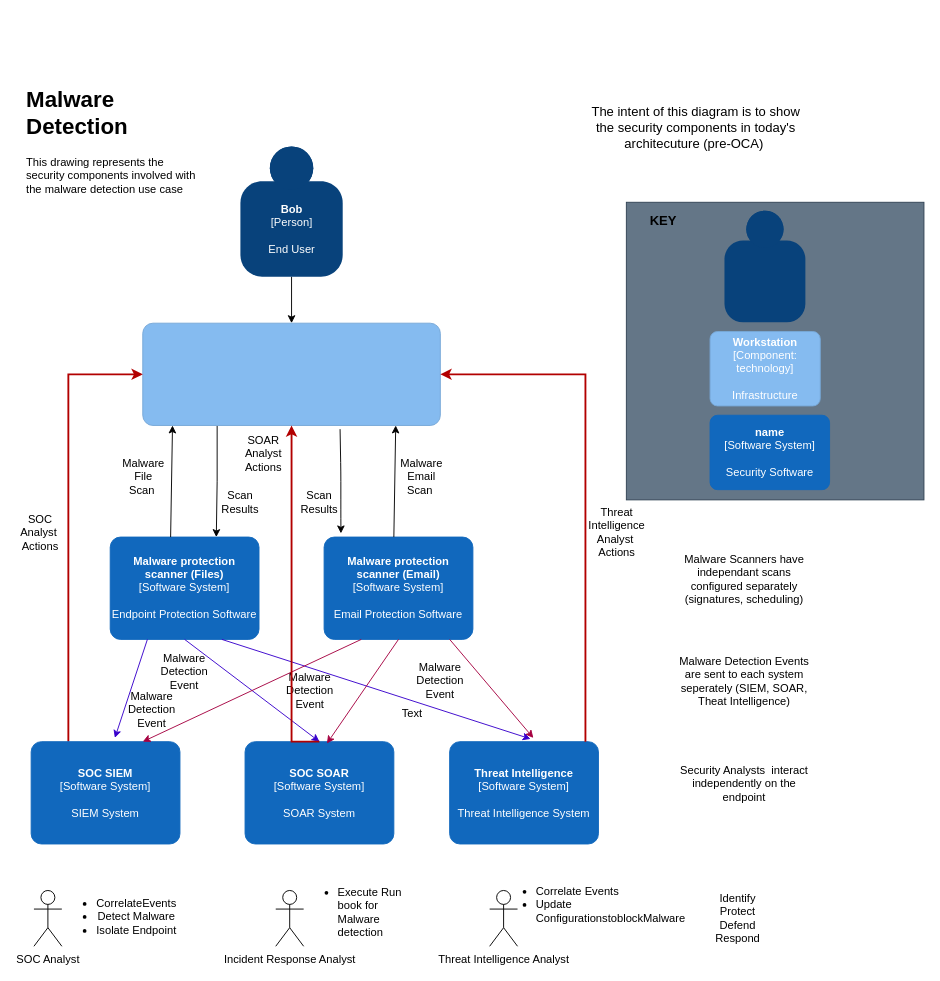
Some shapes in this 940 by 981 pixel diagram are drawn without their labels. The centre of each missing label's shape, as x and y in pixels:
BobsPC [Component: technology] Bob's Workstation: the point at 291,373
name [Person] Person: the point at 764,266
